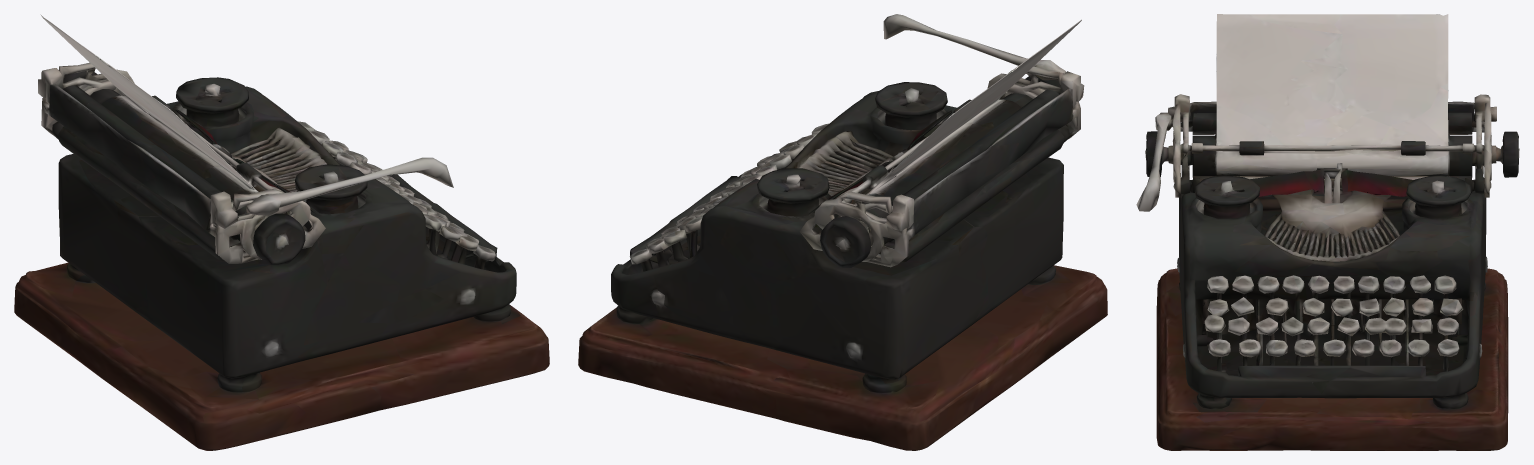
The model's file is serial.glb.
3 renders of one model, left to right at view 1: azimuth 30°, elevation 25°; view 2: azimuth 150°, elevation 25°; view 3: azimuth 270°, elevation 25°, orthographic. The views are drawn at different scales.
Parts seen in each view (by area): view 1: tripo_node_ebef05eb-39e7-4ddf-87ec-c52653948b01; view 2: tripo_node_ebef05eb-39e7-4ddf-87ec-c52653948b01; view 3: tripo_node_ebef05eb-39e7-4ddf-87ec-c52653948b01.
Part boxes in pixels (x1,y1,x2,y2): tripo_node_ebef05eb-39e7-4ddf-87ec-c52653948b01: [14, 14, 549, 450]; tripo_node_ebef05eb-39e7-4ddf-87ec-c52653948b01: [578, 14, 1107, 450]; tripo_node_ebef05eb-39e7-4ddf-87ec-c52653948b01: [1136, 14, 1519, 450].
Size of the model in its own units: 0.9468 by 0.8275 by 1.
Materials: 1 (1 with a texture image).
